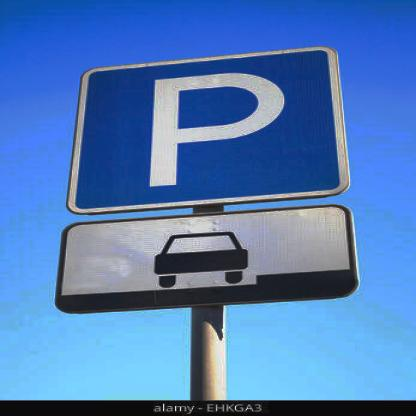Parking: (84, 66, 340, 196)
